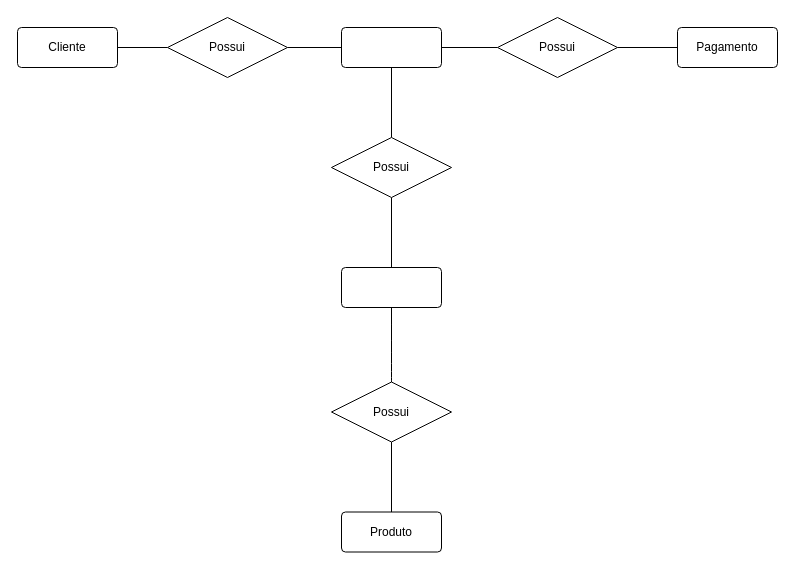
This 795x570 diagram has some shape labels left out. The box of each missing label's shape, as (x1, y1, x2, y2) in pixels:
ItemPedido: (340, 266, 442, 308)
Pedido: (340, 26, 442, 68)
